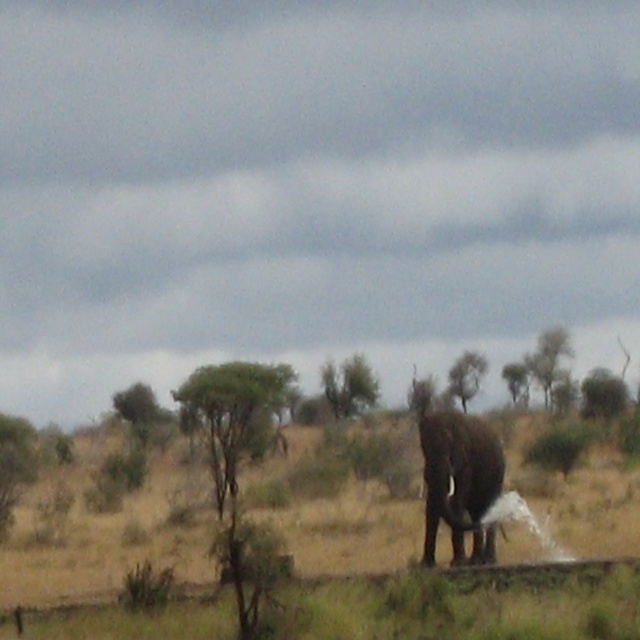Elephant: (417, 410, 507, 569)
